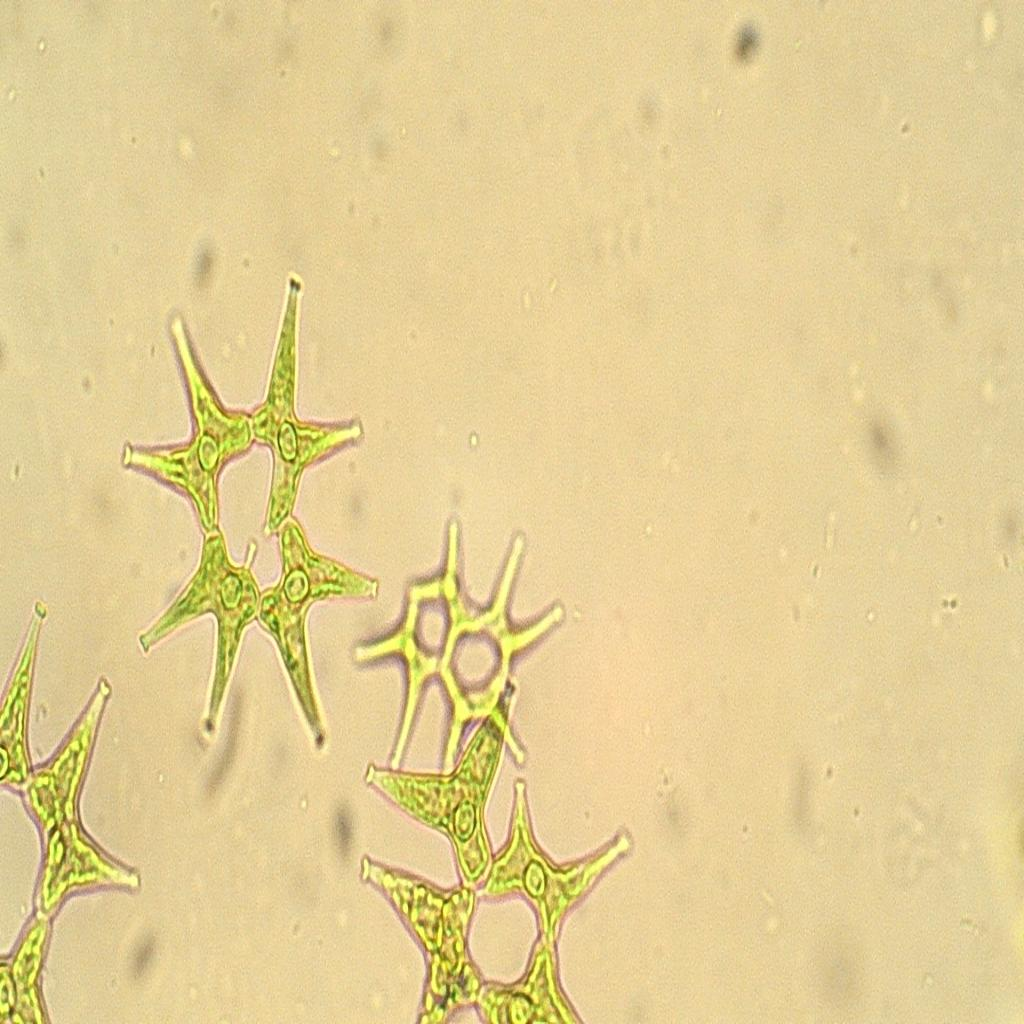Pediastrum_CF: (109, 255, 396, 773)
